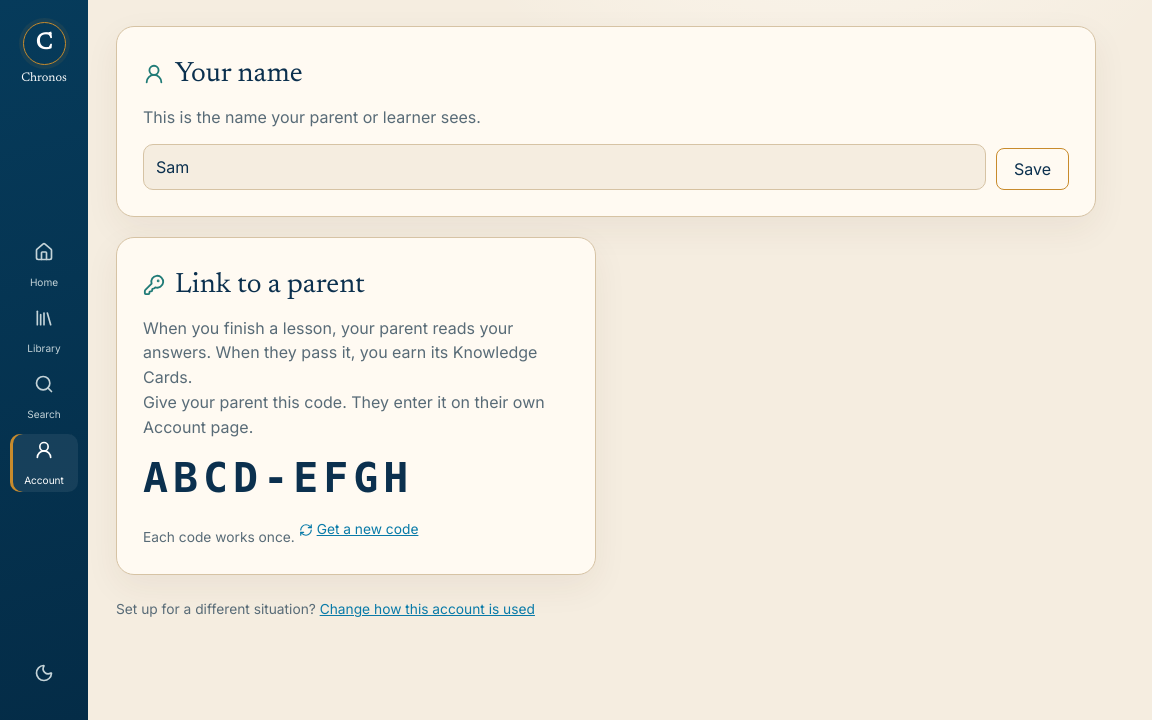
Test: Account page › lets a learner get a new code at any time
(page scrolled)
expect the text "ABCD-EFGH" is shown: met, box [143,452,413,502]
What coordinates should you click on to do the following:
click the button "Get a new code"
I would click on:
 (358, 530)
Its box is [299,518,418,542].
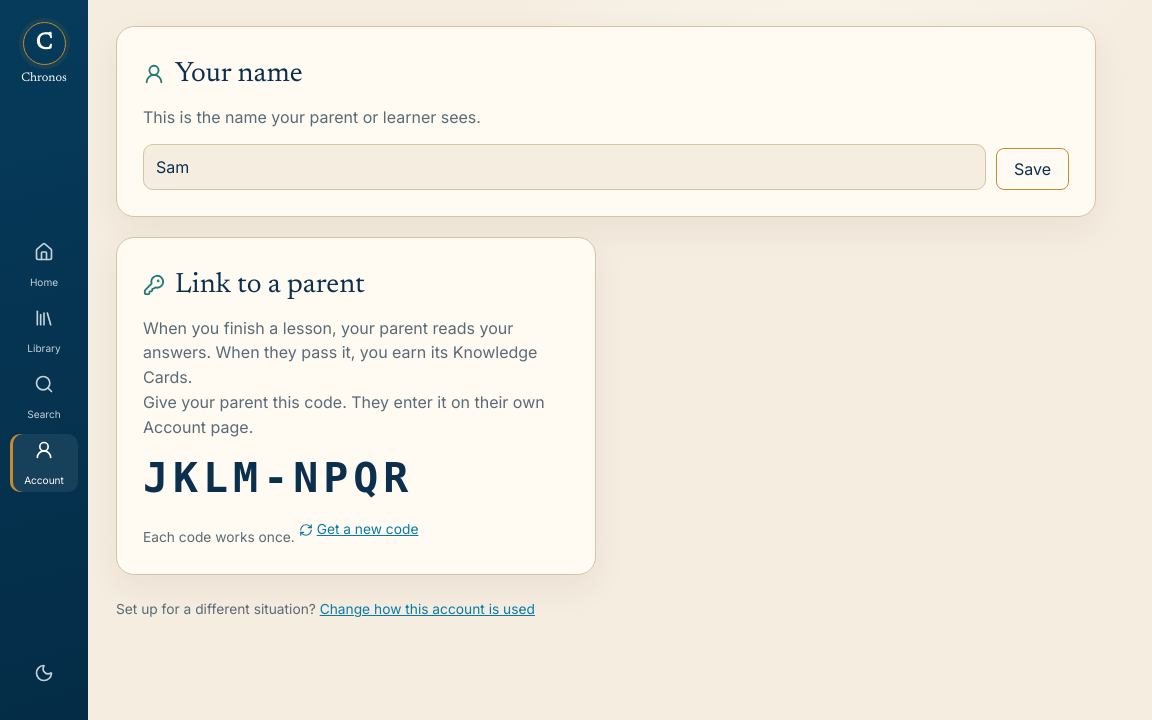
expect the text "JKLM-NPQR" is shown: met, box [143,452,413,502]
